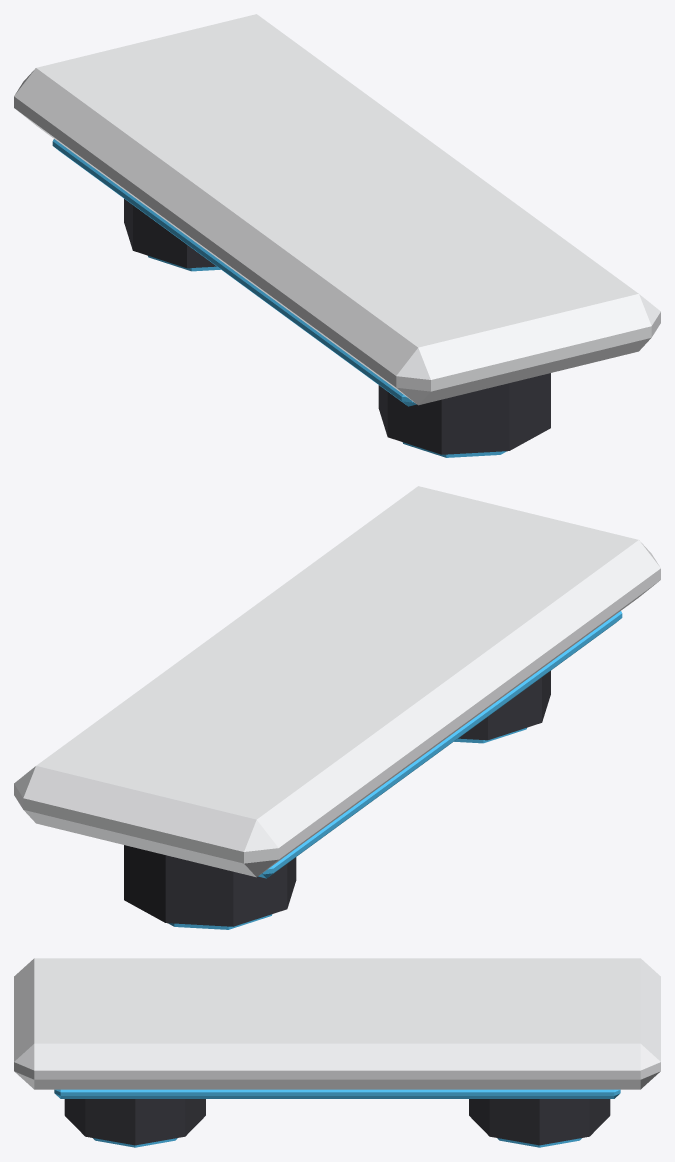
The model's file is Hoverboard.fbx.
The picture shows the model from 3 angles, top to bottom: view 1: azimuth 30°, elevation 25°; view 2: azimuth 150°, elevation 25°; view 3: azimuth 270°, elevation 25°; orthographic projection. The views are drawn at different scales.
Visible parts, largest first — view 1: Hoverboard; view 2: Hoverboard; view 3: Hoverboard.
Boxes of the visible parts, x1,y1,x2,y2 form: Hoverboard: [14, 14, 660, 457]; Hoverboard: [14, 486, 660, 929]; Hoverboard: [14, 958, 660, 1147].
Size of the model in its own units: 1.2 by 0.67 by 3.2.
1 material, 1 textured.
